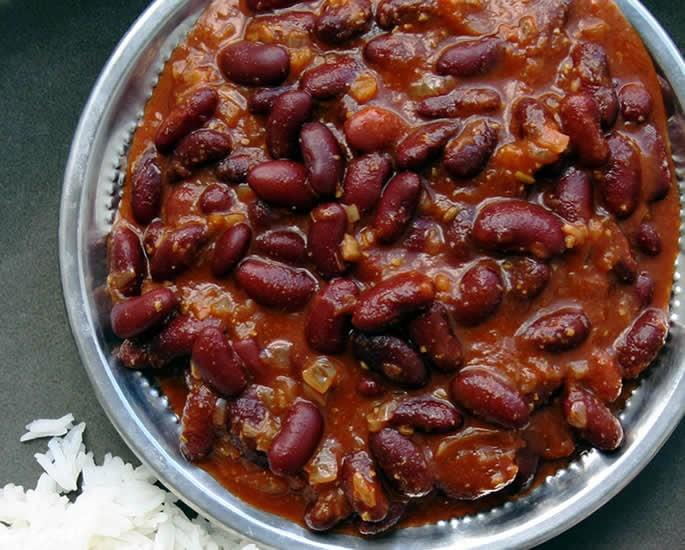RajmaCurry: (105, 1, 685, 529)
WhiteRice: (0, 413, 261, 550)
